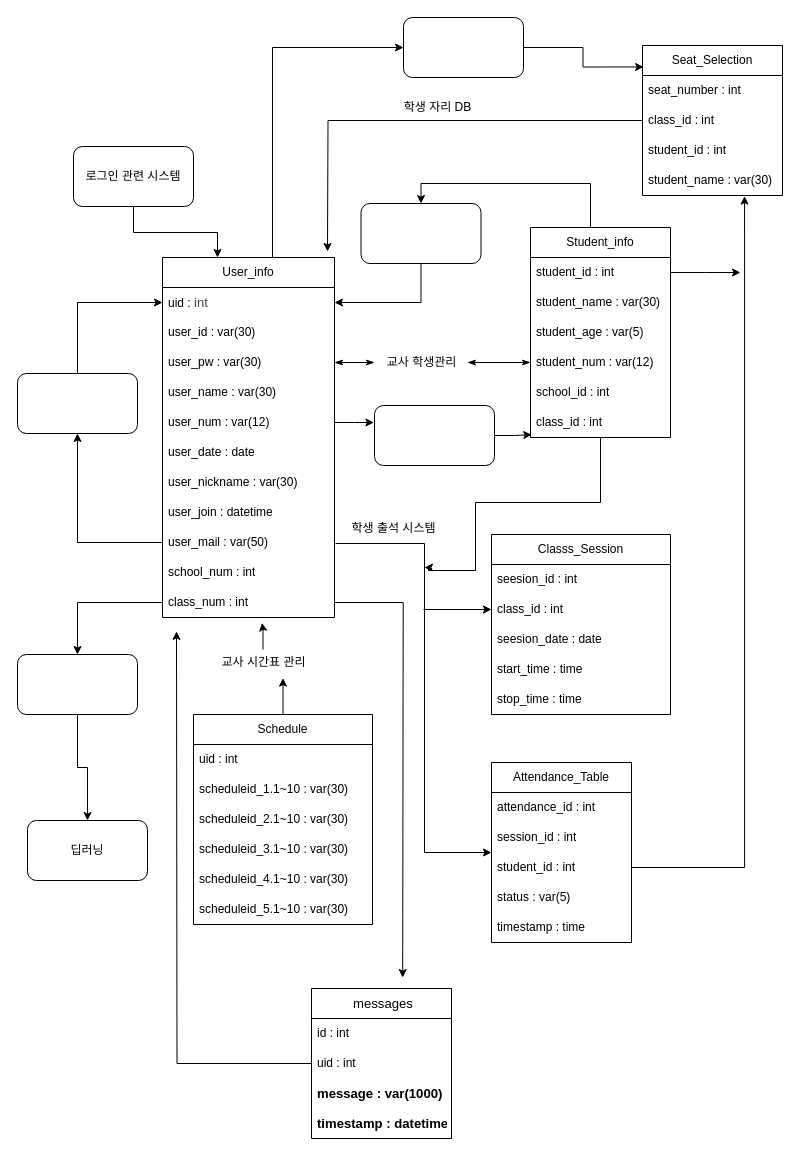
Some shapes in this 800 by 1156 pixel diagram are drawn without their labels. The centre of each missing label's shape, as x and y in pixels:
단체 문자 발송 시스템: point (434, 435)
문제집 정리 시스템: point (77, 684)
선거 관련 서비스: point (420, 233)
웹소켓 채팅 서버: point (77, 403)
자리 선정 시스템: point (463, 47)
